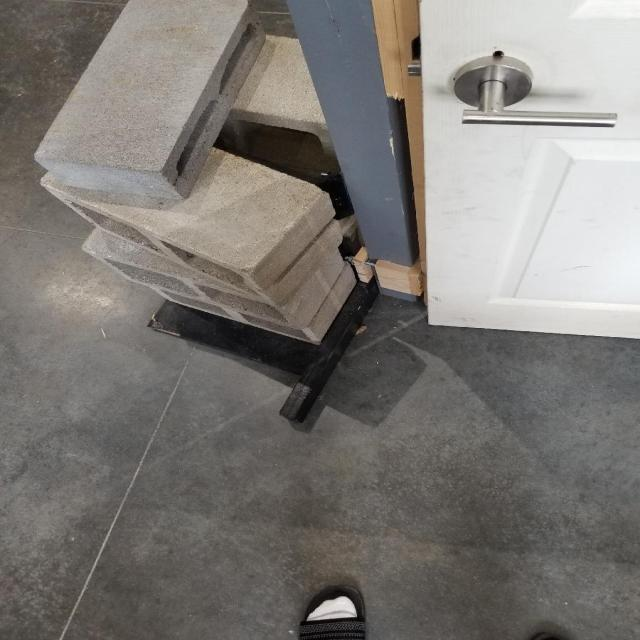door: (447, 52, 622, 132)
